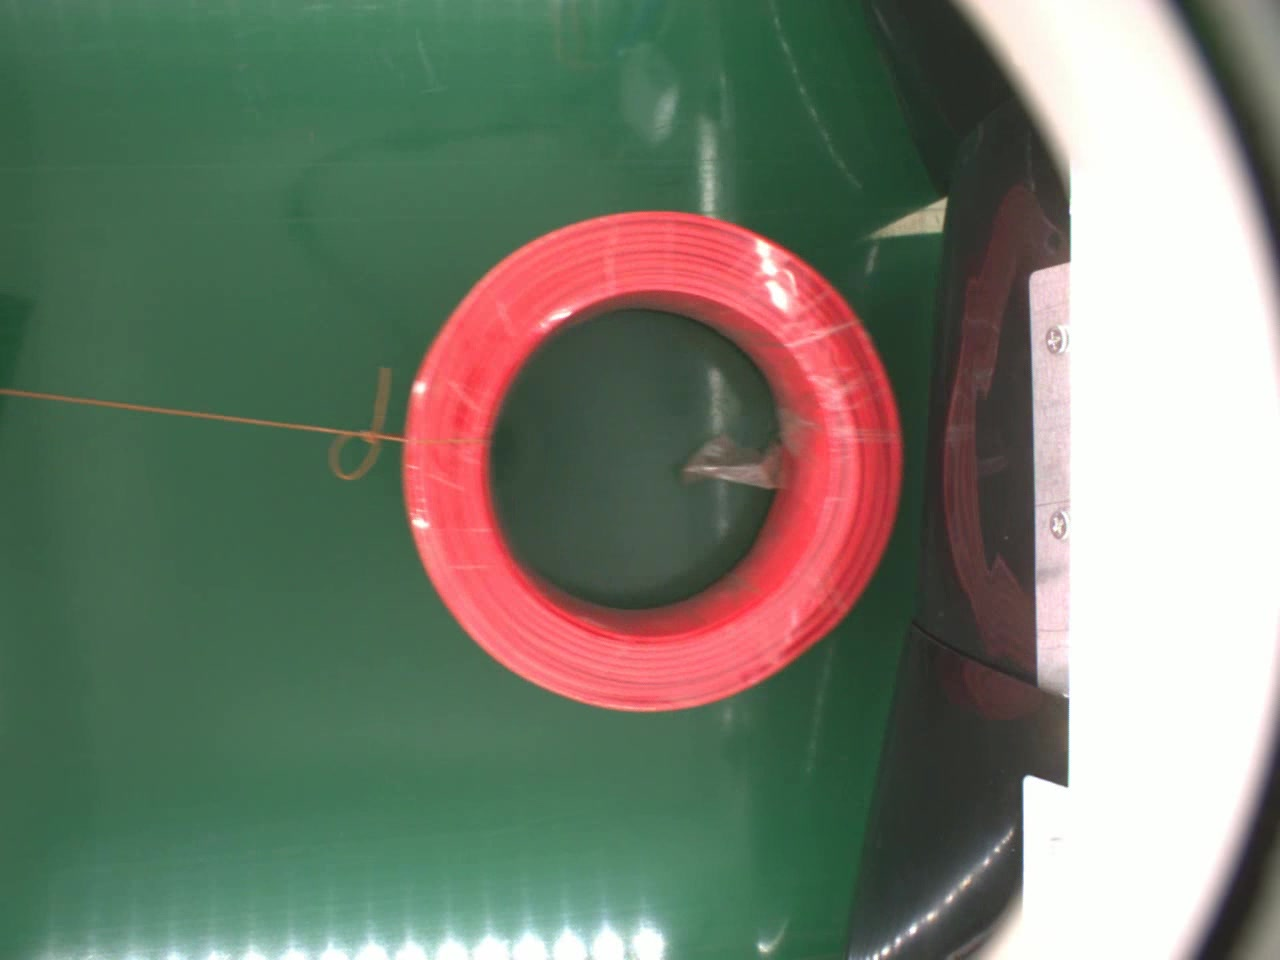red: (397, 200, 908, 709)
